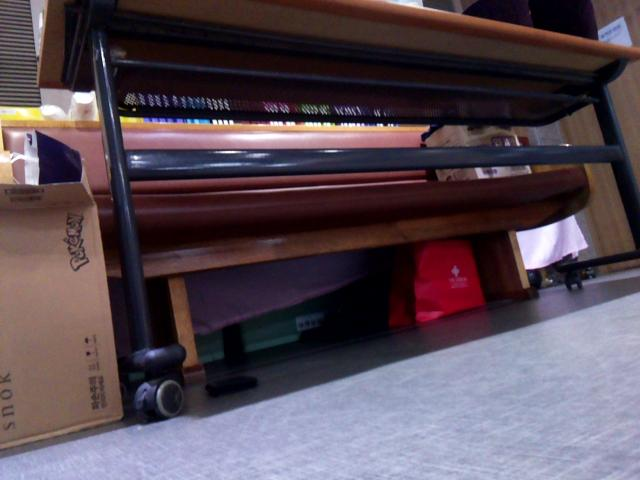wallet: (195, 370, 262, 403)
